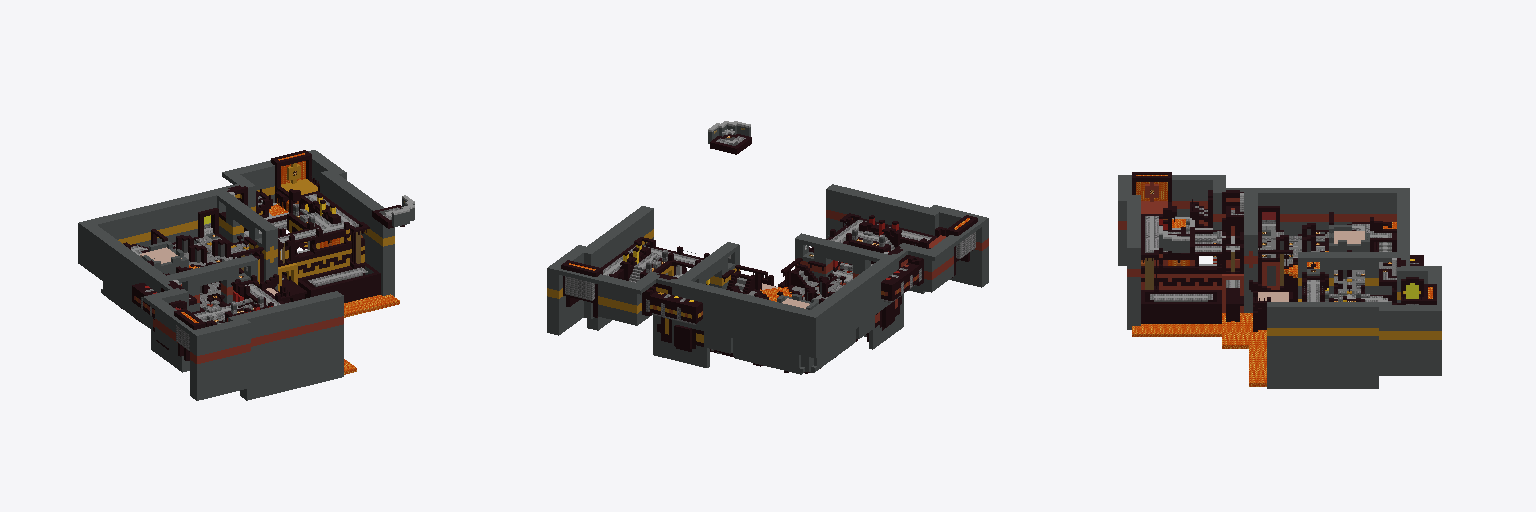
3 renders of one model, left to right at view 1: azimuth 30°, elevation 25°; view 2: azimuth 150°, elevation 25°; view 3: azimuth 270°, elevation 25°, orthographic.
Size of the model in its own units: 72 by 33.5 by 72.
26 materials, 7 textured.